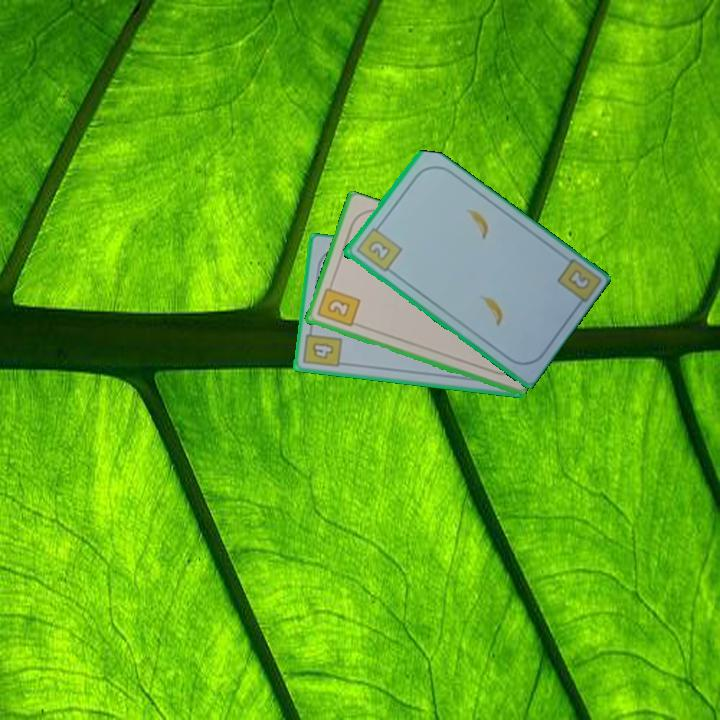2b: (352, 220, 404, 274), (313, 279, 362, 330), (564, 265, 593, 293)
4b: (300, 324, 345, 371)
